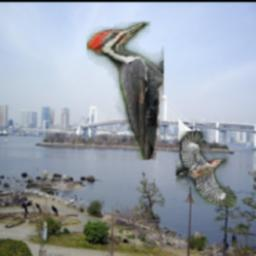Woodpecker: (88, 22, 165, 160), (176, 131, 236, 205)
